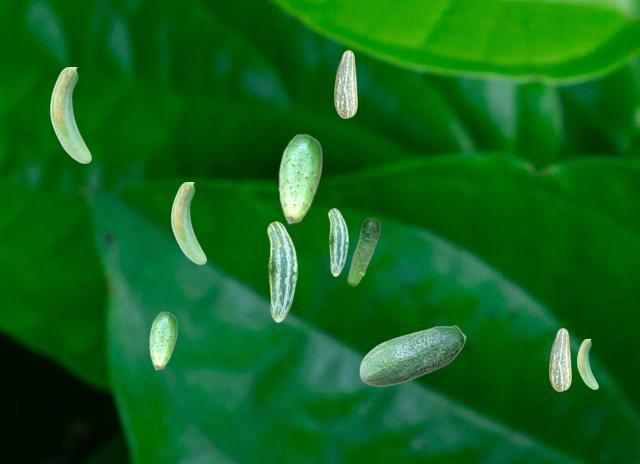cucumber: (359, 325, 465, 385), (278, 133, 321, 223), (50, 67, 90, 162), (267, 221, 296, 321), (171, 182, 205, 263), (347, 218, 379, 285), (149, 311, 176, 369), (334, 50, 356, 117), (549, 328, 570, 390), (328, 208, 347, 275), (577, 339, 597, 388)
